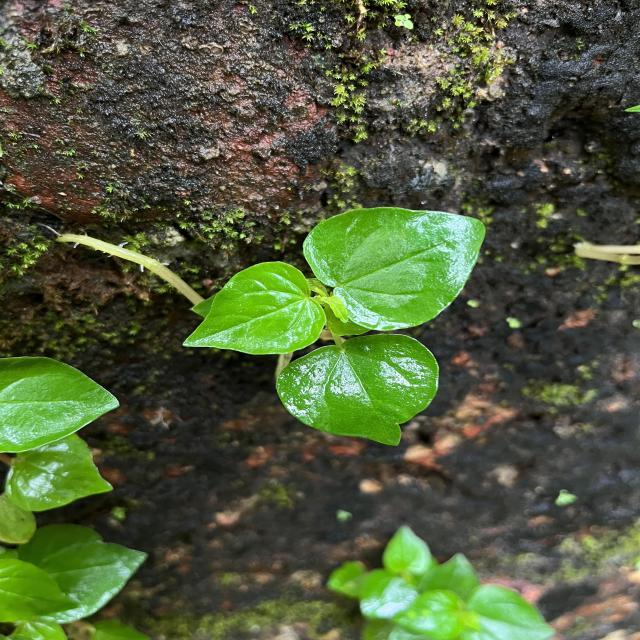Peperomia pellucida: (300, 204, 488, 335), (274, 330, 442, 450), (178, 260, 328, 356)
